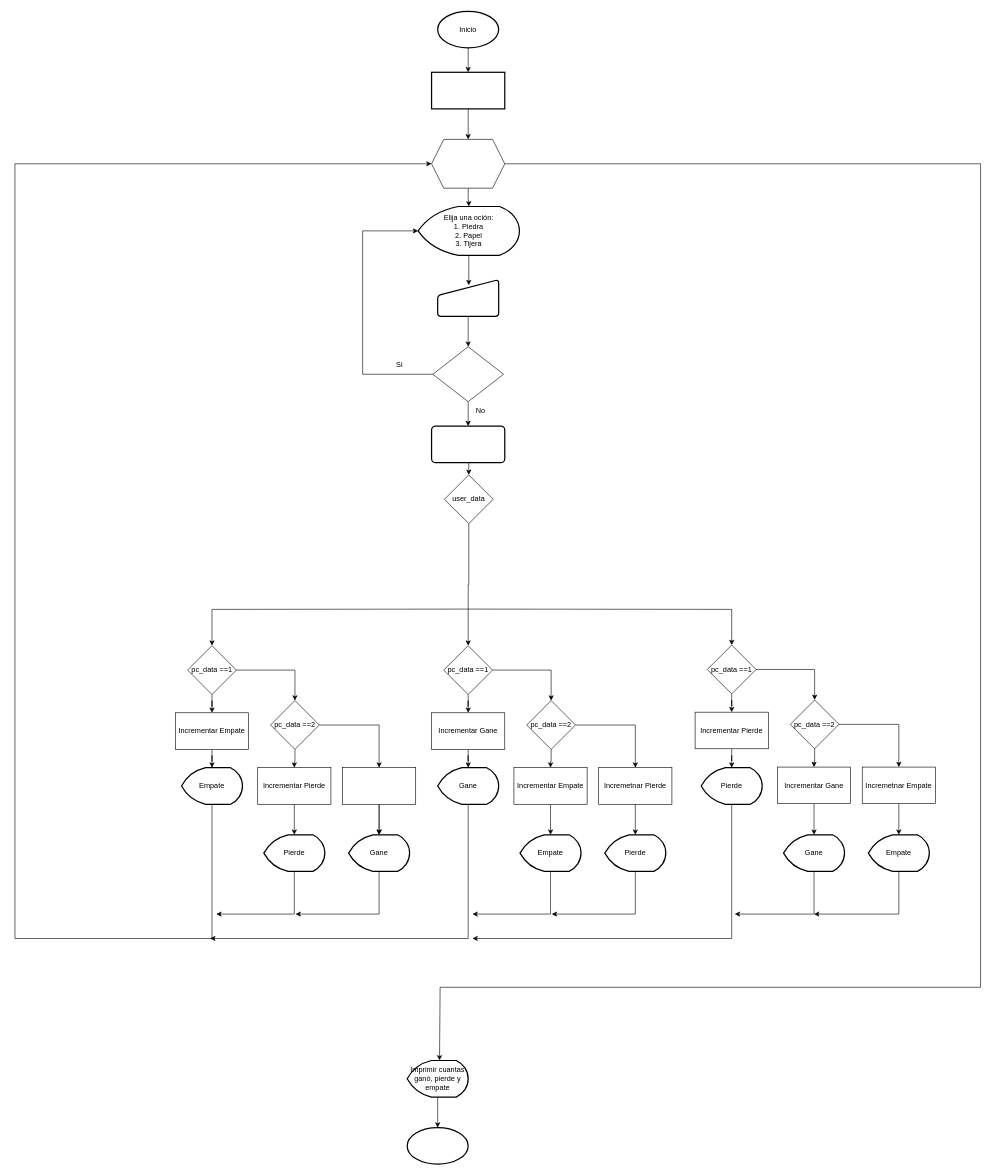
Image size: 996x1175. Some labels were removed from this diagram. Here are the shapes that lost their labels. From the top down, the centre of each, then its label:
At point 468,90: "Inicializar con cero Gane, Empate, Pierde".
At point 468,163: "i=1, i<10".
At point 468,298: "user_data<--".
At point 468,374: "user_data diferente de 1, 2 o 3".
At point 468,444: "Generar número aleatorio entre 1 y 3 Almacenar el número en pc_data".
At point 379,785: "Incremetnar Gane".
At point 437,1145: "Fin".
